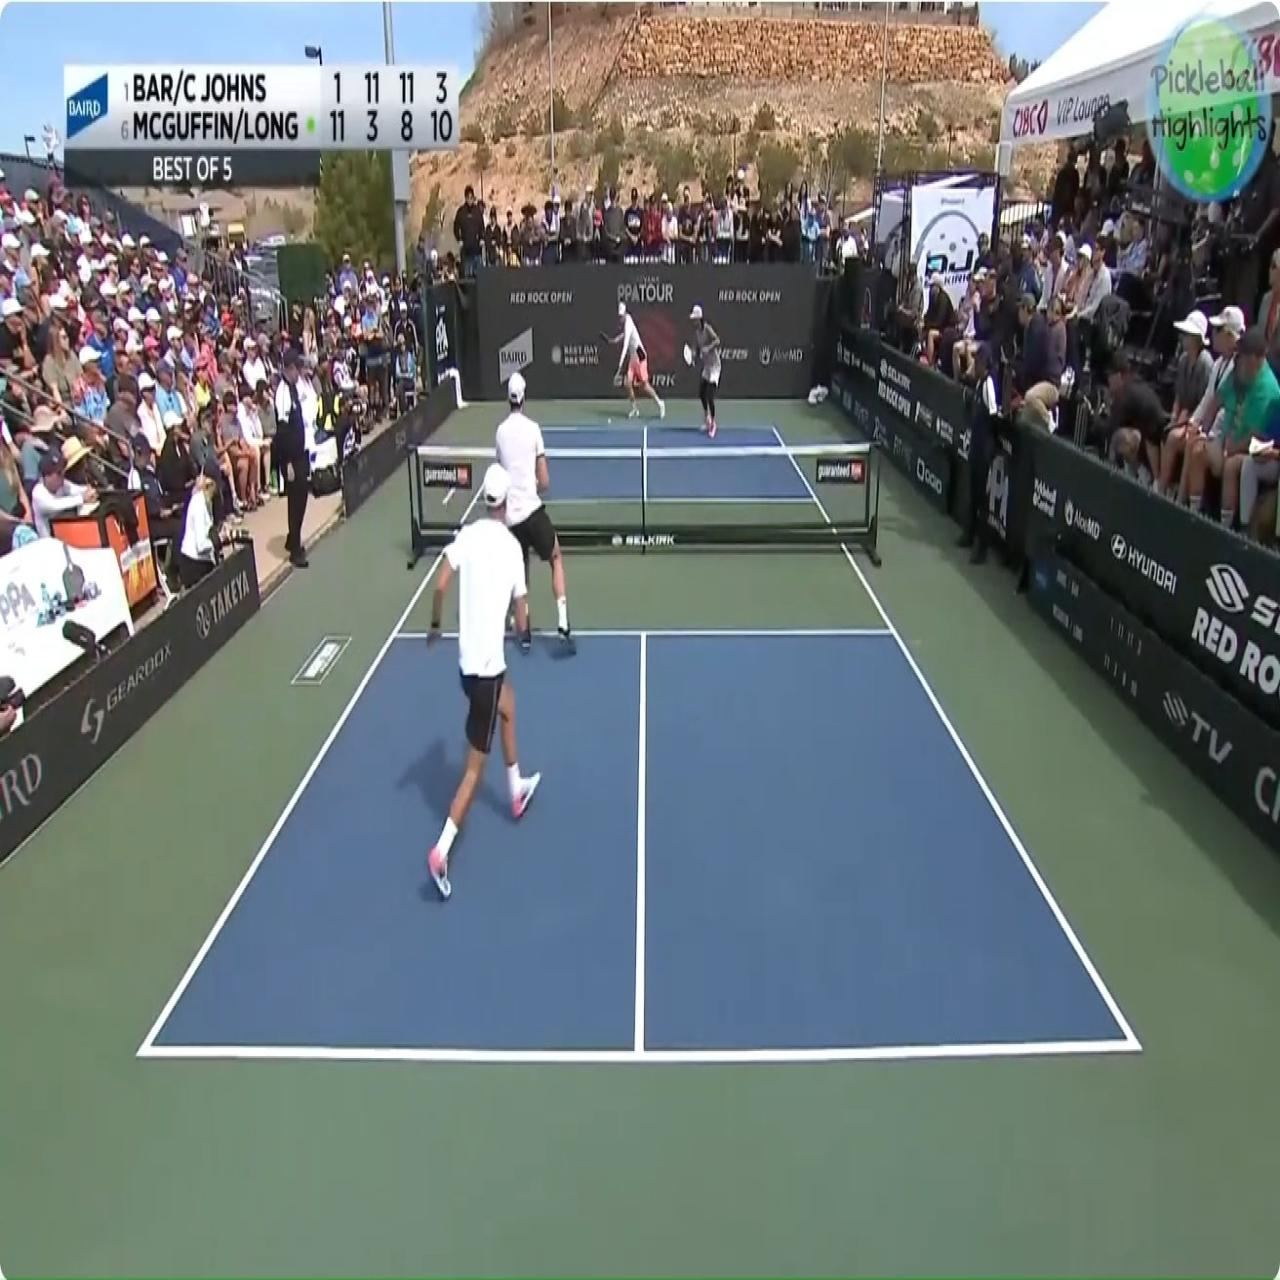pickleball: (607, 417, 612, 424)
